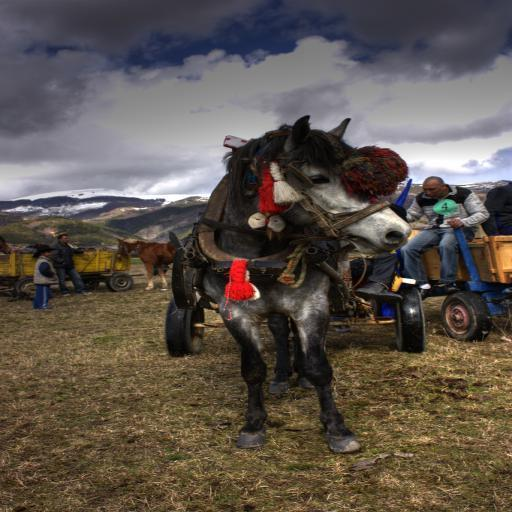horse: (189, 111, 417, 453), (112, 236, 190, 290)
